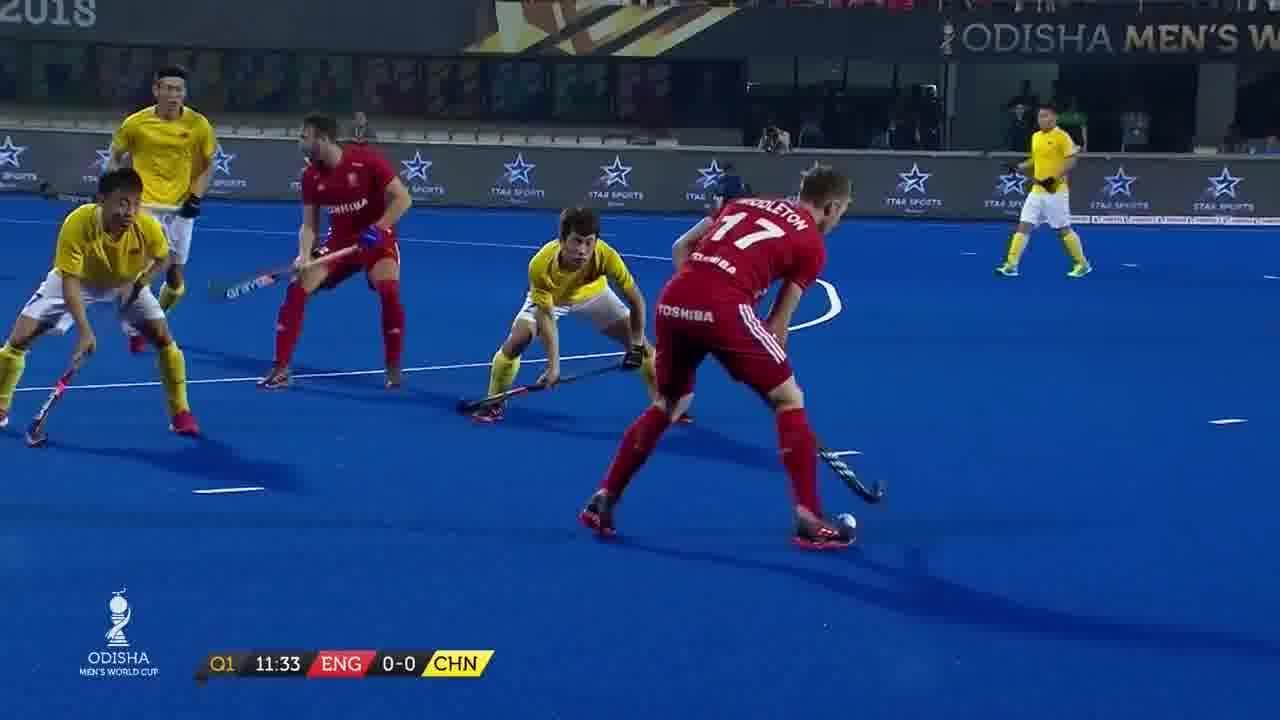ball: (824, 500, 862, 534)
